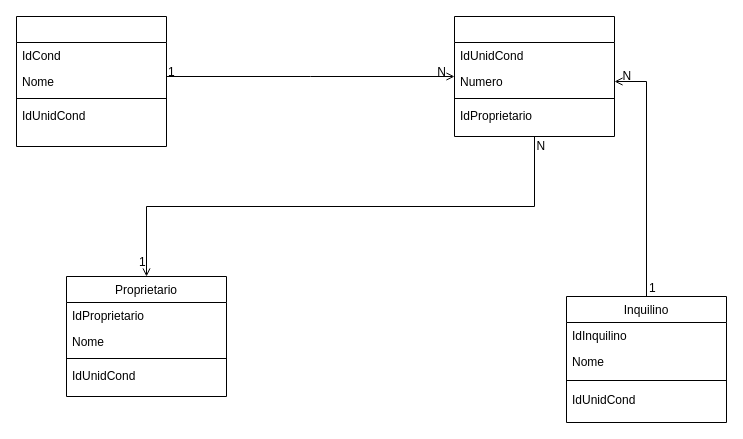
Some shapes in this 743 by 439 pixel diagram are drawn without their labels. Here are the shapes that lost their labels. From the top down, the box of each, then its label:
(16, 16, 166, 146): Condominio
(454, 16, 614, 136): UnidadeCondominal
